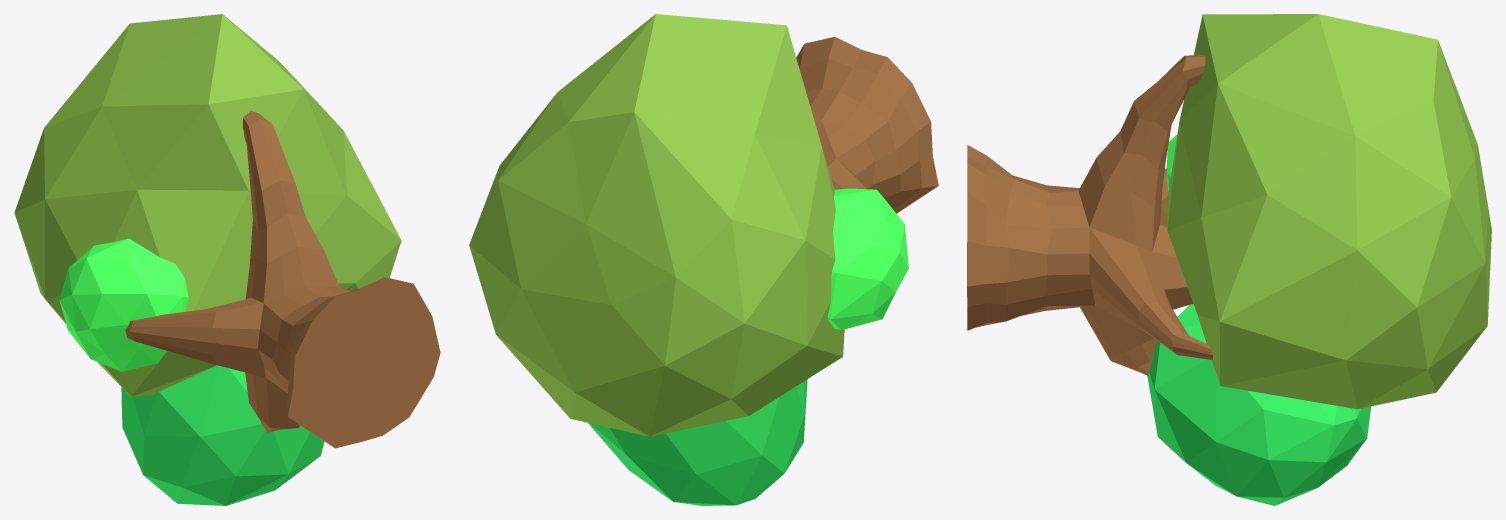
The model's file is OakTree_Big.fbx.
The picture shows the model from 3 angles, left to right: view 1: azimuth 30°, elevation 25°; view 2: azimuth 150°, elevation 25°; view 3: azimuth 270°, elevation 25°; orthographic projection. The views are drawn at different scales.
Visible parts, largest first — view 1: OakTree_Big; view 2: OakTree_Big; view 3: OakTree_Big.
Part boxes in pixels (x1,y1,x2,y2): OakTree_Big: [14, 14, 440, 505]; OakTree_Big: [469, 14, 938, 505]; OakTree_Big: [967, 14, 1491, 505].
Bounding box in the file's own units: 415 × 563 × 549.
